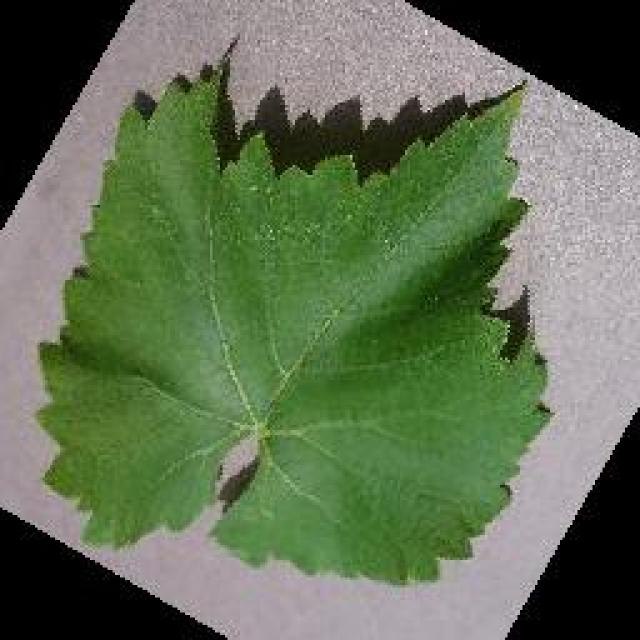Grape___healthy: (40, 72, 545, 582)
